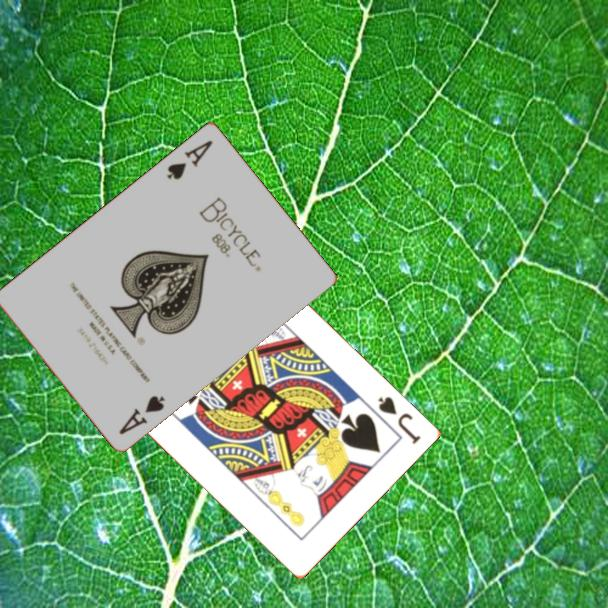s01: (163, 136, 216, 182), (115, 391, 168, 437)
s11: (374, 393, 423, 447)
